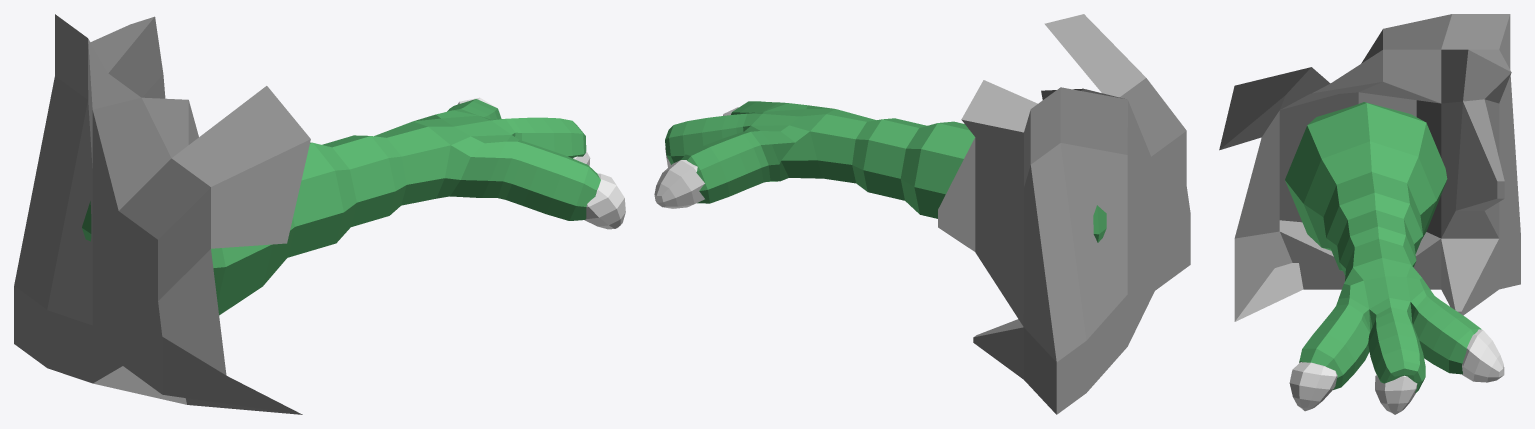
The model's file is lizard_hand.glb.
The picture shows the model from 3 angles, left to right: view 1: azimuth 30°, elevation 25°; view 2: azimuth 150°, elevation 25°; view 3: azimuth 270°, elevation 25°; orthographic projection. The views are drawn at different scales.
Visible parts, largest first — view 1: Cube.020; view 2: Cube.020; view 3: Cube.020.
Part boxes in pixels (box(x1,y1,x2,y2)): Cube.020: box(14, 14, 625, 414); Cube.020: box(654, 14, 1190, 414); Cube.020: box(1219, 14, 1520, 414).
Bounding box in the file's own units: 0.494 × 0.3064 × 0.2938.
